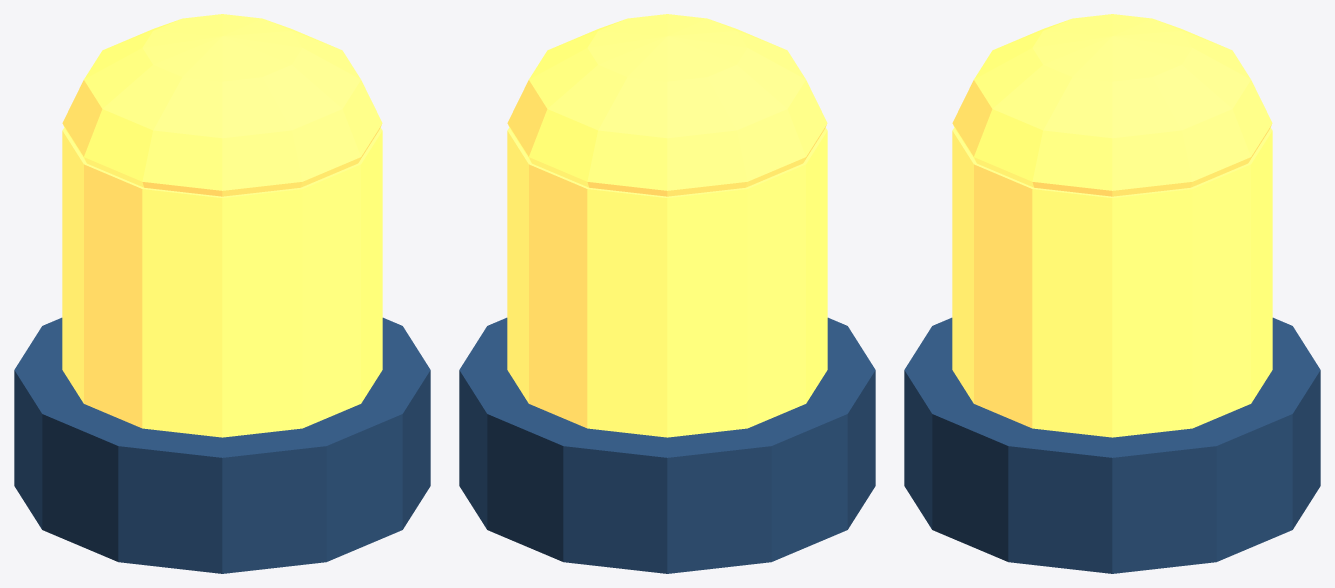
File: Beacon.glb
3 renders of one model, left to right at view 1: azimuth 30°, elevation 25°; view 2: azimuth 150°, elevation 25°; view 3: azimuth 270°, elevation 25°, orthographic.
Visible parts, largest first — view 1: Beacon; view 2: Beacon; view 3: Beacon.
Boxes of the visible parts, x1=… form: Beacon: x1=14, y1=14, x2=430, y2=573; Beacon: x1=459, y1=14, x2=875, y2=573; Beacon: x1=904, y1=14, x2=1320, y2=573.
Bounding box in the file's own units: 0.26 × 0.31 × 0.26.
